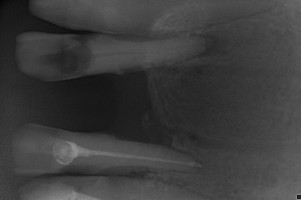Furcation Involvement: (198, 35, 230, 57)
